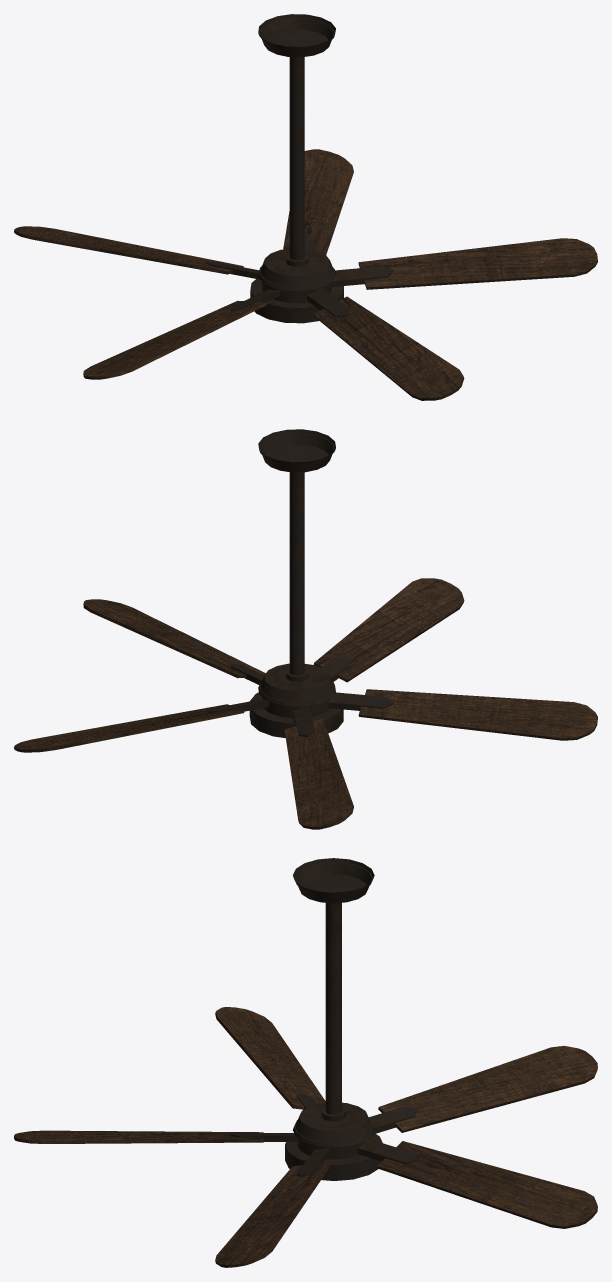
Rendered from ceiling_fan_mp_2.dae.
3 views of the same model, one above another, from view 1: azimuth 30°, elevation 25°; view 2: azimuth 150°, elevation 25°; view 3: azimuth 270°, elevation 25° (orthographic). The views are drawn at different scales.
Parts seen in each view (by area): view 1: ceiling_fan_mp_2_blades, ceiling_fan_mp_2; view 2: ceiling_fan_mp_2_blades, ceiling_fan_mp_2; view 3: ceiling_fan_mp_2_blades, ceiling_fan_mp_2.
Boxes of the visible parts, <box> form: ceiling_fan_mp_2_blades: <box>14,149,597,400</box>; ceiling_fan_mp_2: <box>250,14,343,323</box>; ceiling_fan_mp_2_blades: <box>14,578,597,829</box>; ceiling_fan_mp_2: <box>249,429,343,737</box>; ceiling_fan_mp_2_blades: <box>14,1007,597,1267</box>; ceiling_fan_mp_2: <box>285,858,382,1180</box>.
Bounding box in the file's own units: 1.11 × 1.06 × 0.5915.
Materials: 2 (2 with a texture image).
